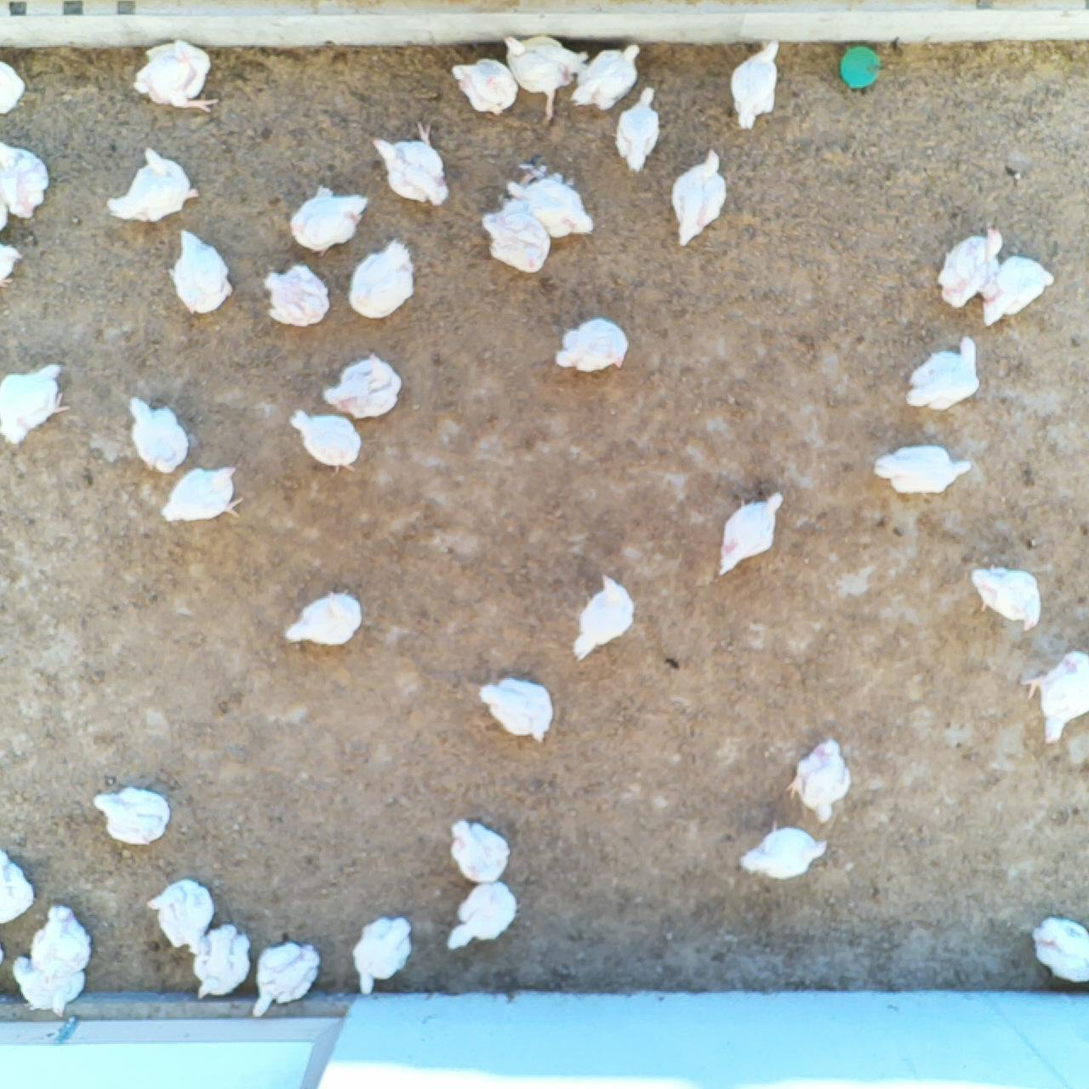chicken: (111, 147, 203, 226), (505, 34, 586, 123), (1023, 652, 1089, 750), (373, 124, 450, 207), (138, 44, 222, 117), (508, 170, 596, 237), (1, 367, 71, 448), (480, 197, 551, 276), (970, 562, 1046, 634), (787, 738, 852, 822), (909, 336, 979, 414), (675, 151, 730, 248), (172, 230, 234, 316), (937, 231, 1005, 308), (721, 492, 784, 574), (254, 941, 321, 1018), (351, 242, 416, 320), (292, 188, 369, 253), (573, 576, 634, 658), (31, 904, 93, 984), (324, 356, 402, 419), (984, 257, 1056, 325), (148, 878, 215, 951), (740, 827, 834, 878), (94, 785, 171, 847), (481, 678, 554, 743), (355, 914, 414, 994), (161, 468, 247, 522), (874, 447, 972, 494), (291, 409, 364, 472), (128, 395, 186, 474), (448, 882, 516, 949), (731, 40, 780, 130), (579, 44, 643, 109), (262, 264, 329, 326), (288, 592, 362, 647), (447, 818, 509, 883), (196, 925, 252, 996), (554, 320, 629, 373), (455, 60, 521, 120), (14, 958, 81, 1013), (1035, 917, 1089, 984), (618, 88, 660, 173), (1, 144, 48, 219), (1, 853, 37, 927), (1, 58, 25, 116), (1, 244, 23, 291), (1, 208, 9, 231)
